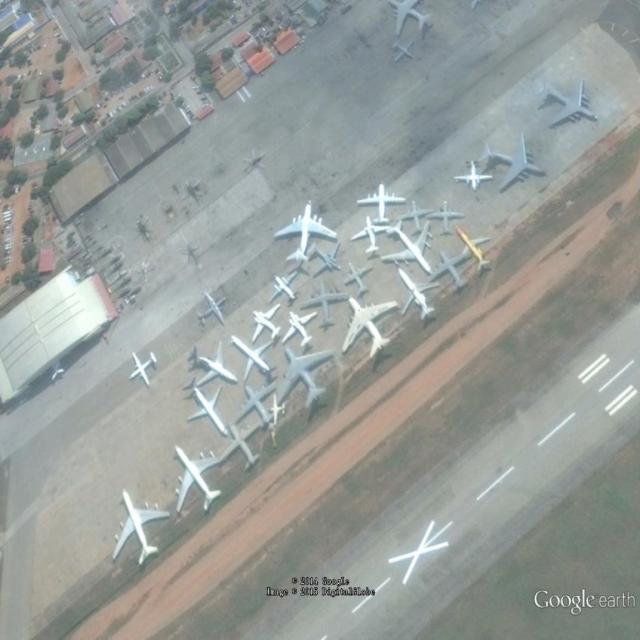aircraft: (112, 488, 173, 570), (269, 198, 341, 267), (341, 293, 402, 370), (273, 341, 339, 412), (475, 133, 549, 196), (171, 442, 229, 517), (533, 76, 601, 130), (377, 217, 436, 276), (186, 338, 241, 393), (184, 377, 232, 440), (393, 265, 445, 321), (299, 279, 353, 332), (230, 381, 279, 437), (233, 331, 279, 389), (353, 181, 411, 226), (222, 421, 268, 475), (427, 246, 477, 292), (452, 228, 497, 275), (386, 2, 433, 41), (281, 306, 320, 352), (348, 215, 391, 255), (451, 157, 495, 196), (250, 303, 288, 348), (426, 200, 470, 238), (306, 240, 347, 278), (395, 200, 438, 236), (194, 287, 229, 331), (267, 270, 307, 307), (128, 347, 159, 394), (342, 261, 379, 299), (265, 391, 288, 431), (387, 40, 418, 63)
